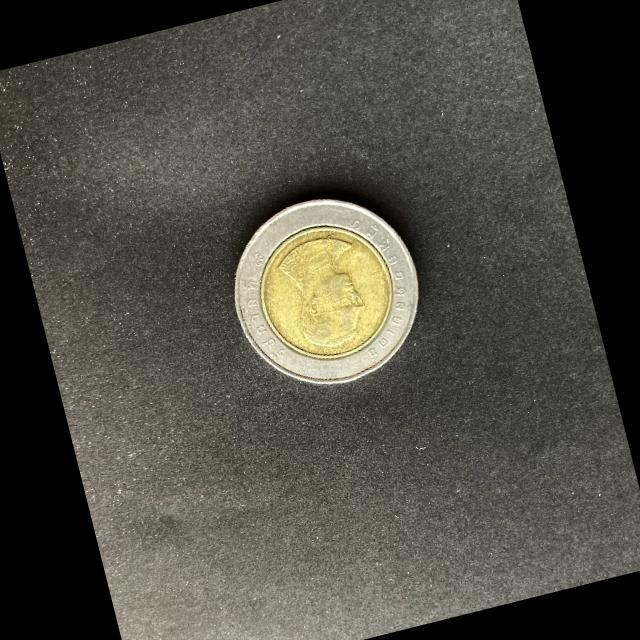10 Bath: (231, 199, 421, 389)
